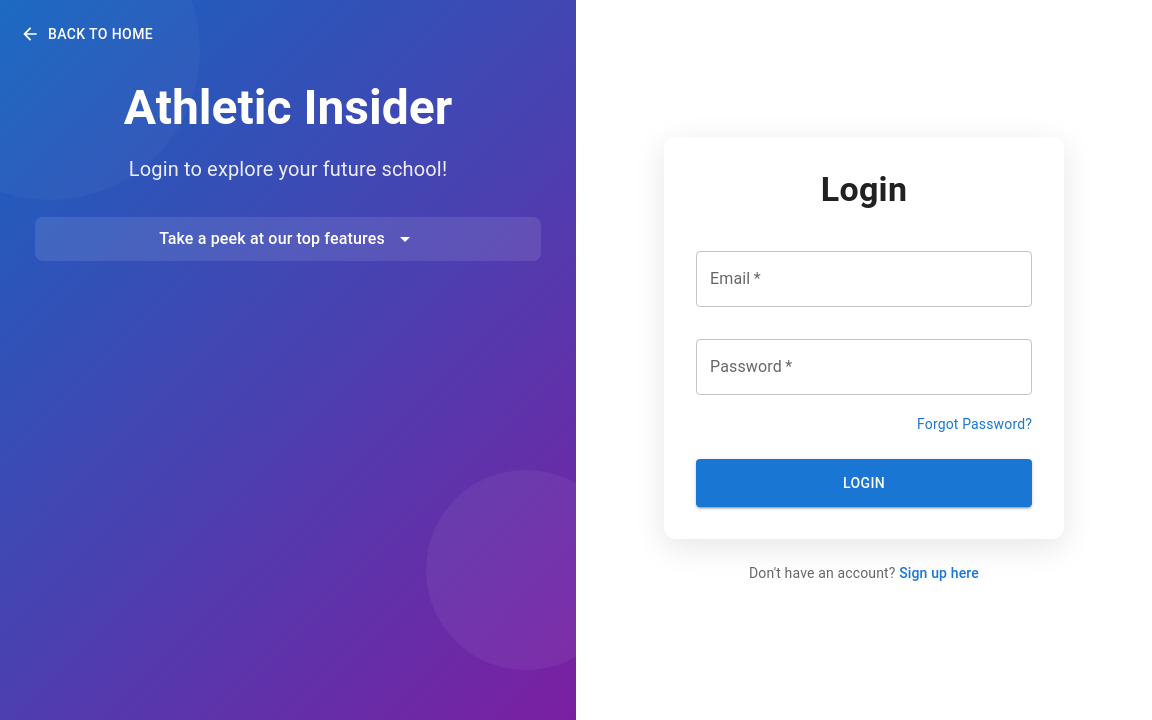
Test case: Login Component › shows server unreachable message on fetch failure
This screenshot has width=1152, height=720.
Type "u@x.com" into the field labelled "Email *" at (864, 279), box [696, 251, 1032, 307]
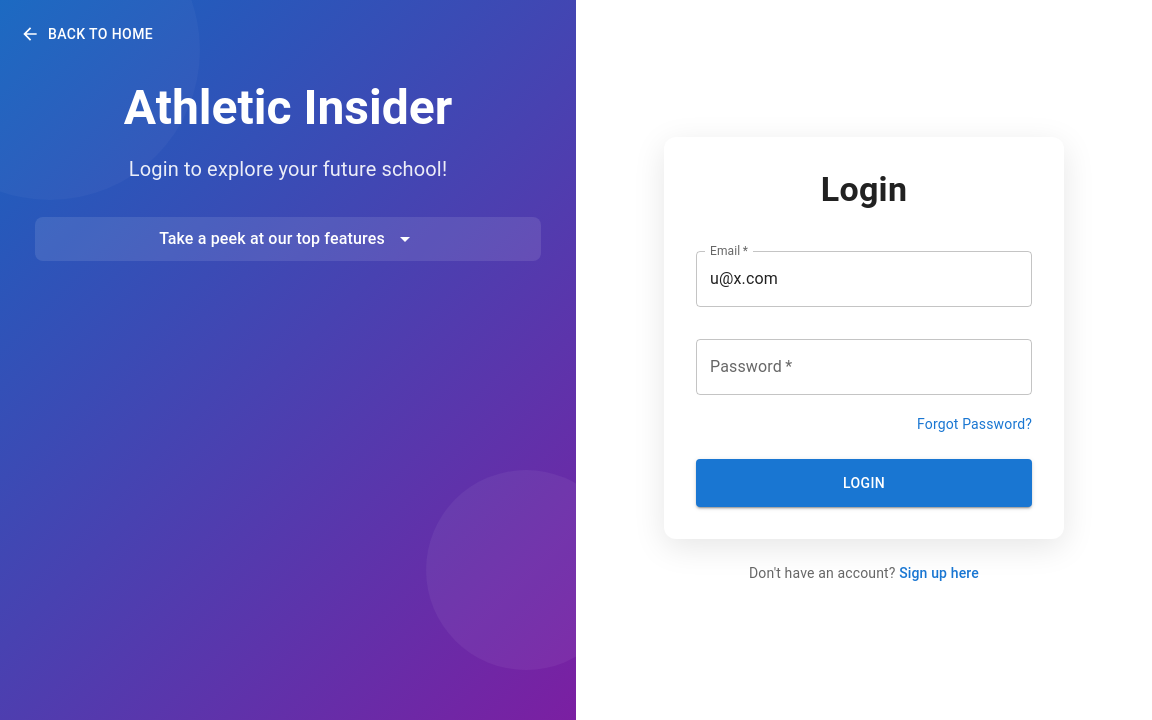
Type "pw" into the password field labelled "Password *" at (864, 367), box [696, 339, 1032, 395]
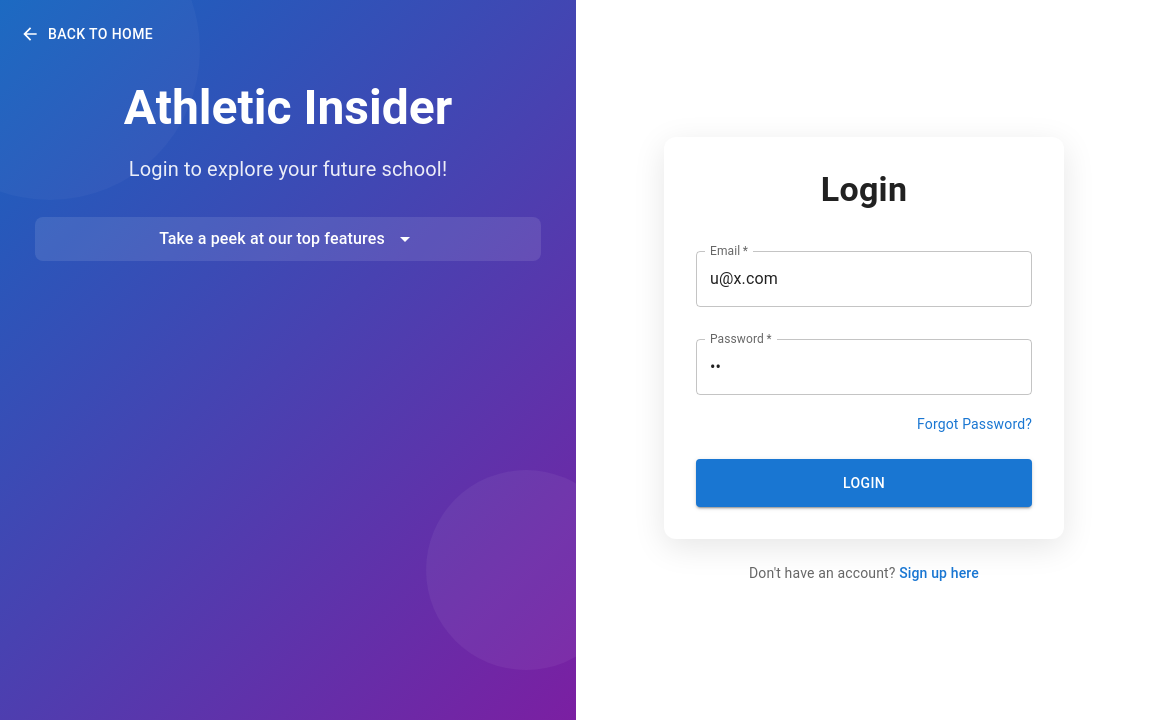
Click the button "Login" at (864, 483), box [696, 459, 1032, 507]
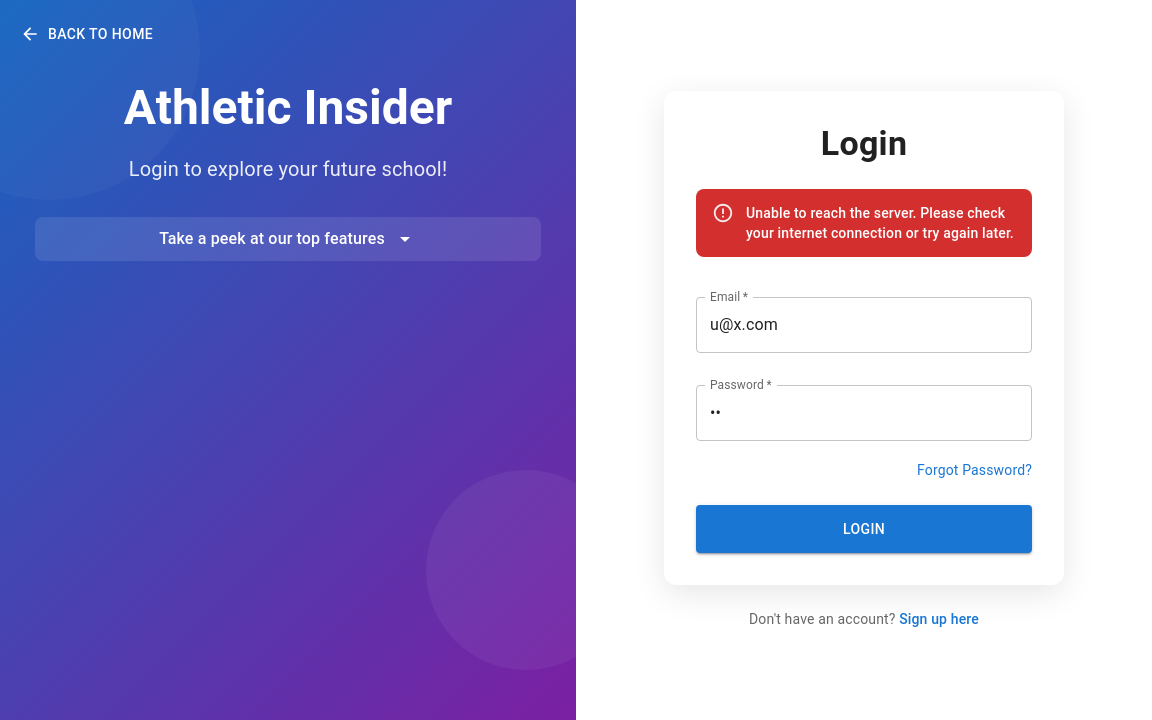
Result: the text "Unable to reach the server. Please check your internet connection or try again later." is shown at [746, 205, 1014, 241]
